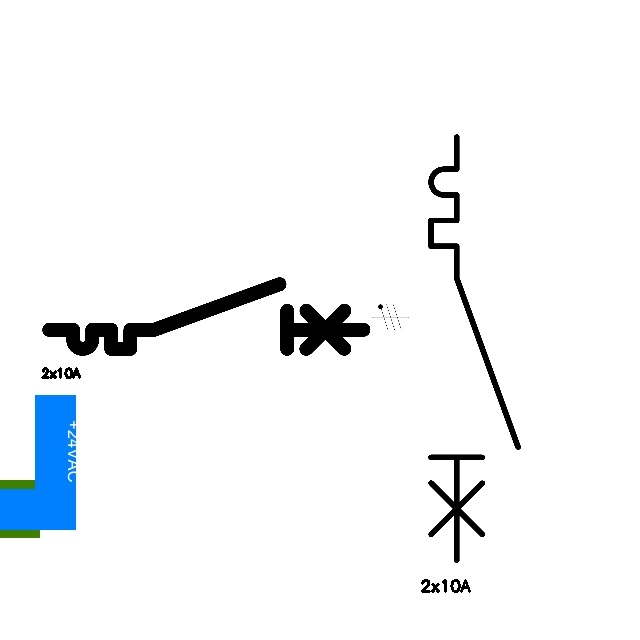interruptor_termomagnetico: (420, 126, 529, 571), (41, 276, 372, 357)
